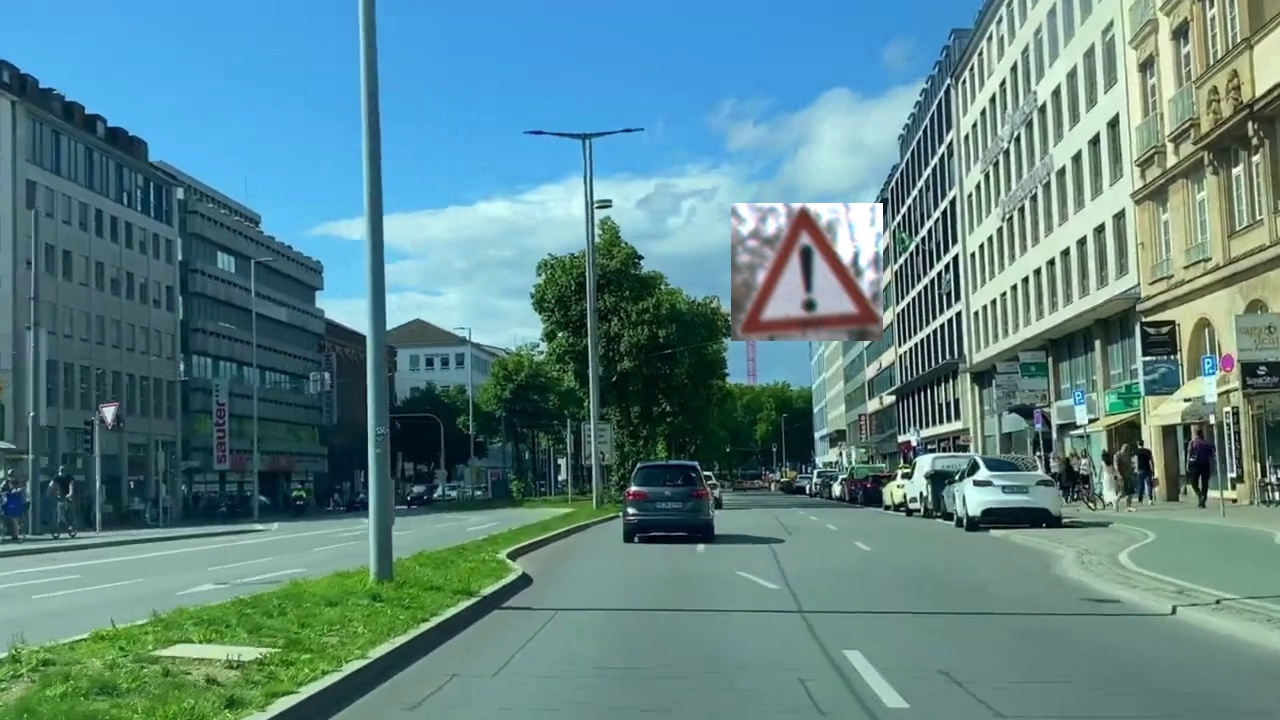Caution: (731, 203, 883, 341)
